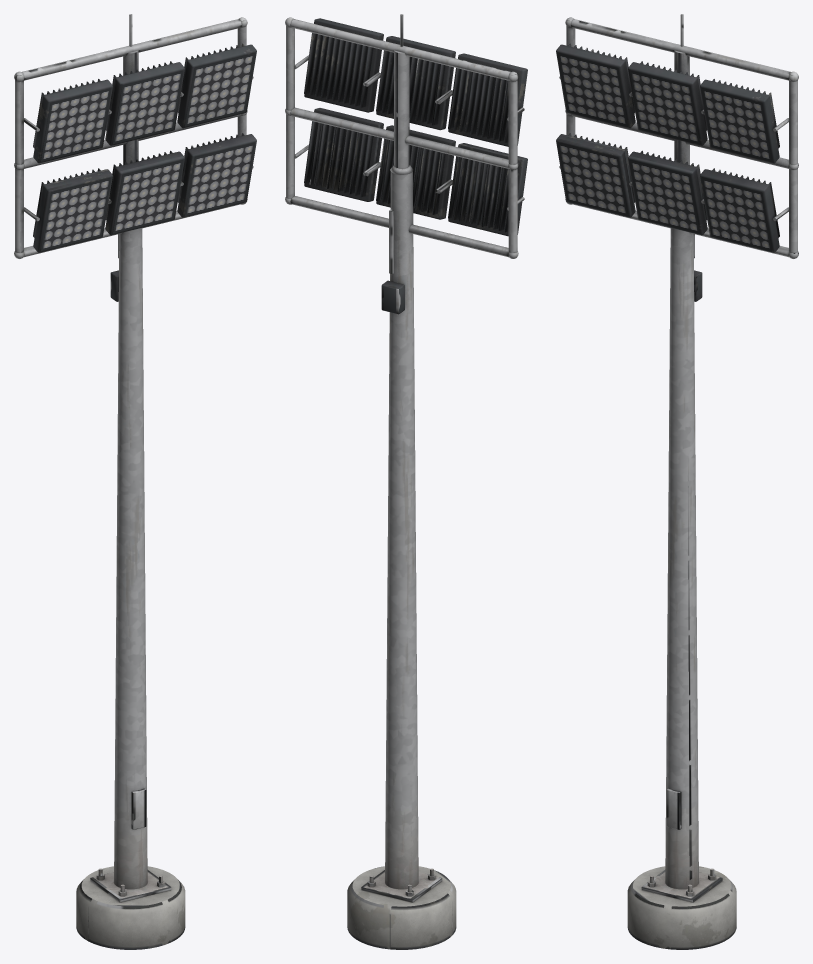
File: iluminador.obj
3 views of the same model, side by side, from view 1: azimuth 30°, elevation 25°; view 2: azimuth 150°, elevation 25°; view 3: azimuth 330°, elevation 25° (orthographic).
Visible parts, largest first — view 1: poste, base_concreto, led_0_2, led_0_0, led_1_1, led_1_0, led_1_2, led_0_1, bastidor_1, bastidor_2, reflector_1_0, reflector_1_2 (+8 smaller); view 2: poste, base_concreto, aletas_0_2, aletas_1_2, aletas_0_0, aletas_1_0, aletas_1_1, aletas_0_1, bastidor_1, reflector_1_2, reflector_0_2, bastidor_4 (+10 smaller); view 3: poste, base_concreto, led_0_0, led_0_2, led_1_1, led_1_2, led_1_0, led_0_1, bastidor_1, bastidor_3, reflector_1_0, reflector_1_2 (+8 smaller).
Boxes of the visible parts, x1=… form: poste: x1=114, y1=228, x2=147, y2=889; base_concreto: x1=76, y1=866, x2=185, y2=949; led_0_2: x1=185, y1=143, x2=255, y2=215; led_0_0: x1=41, y1=178, x2=111, y2=251; led_1_1: x1=113, y1=71, x2=183, y2=144; led_1_0: x1=41, y1=88, x2=111, y2=161; led_1_2: x1=185, y1=53, x2=255, y2=126; led_0_1: x1=113, y1=160, x2=183, y2=233; bastidor_1: x1=21, y1=19, x2=241, y2=80; bastidor_2: x1=15, y1=80, x2=23, y2=252; reflector_1_0: x1=33, y1=79, x2=112, y2=163; reflector_1_2: x1=177, y1=44, x2=256, y2=128; poste: x1=385, y1=171, x2=418, y2=889; base_concreto: x1=347, y1=866, x2=456, y2=949; aletas_0_2: x1=304, y1=121, x2=373, y2=197; aletas_1_2: x1=304, y1=33, x2=373, y2=107; aletas_0_0: x1=448, y1=156, x2=508, y2=232; aletas_1_0: x1=448, y1=68, x2=508, y2=142; aletas_1_1: x1=376, y1=50, x2=445, y2=125; aletas_0_1: x1=376, y1=138, x2=445, y2=214; bastidor_1: x1=290, y1=19, x2=510, y2=80; reflector_1_2: x1=304, y1=18, x2=383, y2=112; reflector_0_2: x1=304, y1=108, x2=383, y2=201; bastidor_4: x1=290, y1=107, x2=508, y2=168; poste: x1=665, y1=228, x2=698, y2=889; base_concreto: x1=627, y1=866, x2=736, y2=949; led_0_0: x1=557, y1=143, x2=627, y2=215; led_0_2: x1=701, y1=178, x2=771, y2=251; led_1_1: x1=629, y1=71, x2=699, y2=144; led_1_2: x1=701, y1=88, x2=771, y2=161; led_1_0: x1=557, y1=53, x2=627, y2=126; led_0_1: x1=629, y1=160, x2=699, y2=233; bastidor_1: x1=571, y1=19, x2=791, y2=80; bastidor_3: x1=789, y1=80, x2=797, y2=252; reflector_1_0: x1=556, y1=44, x2=635, y2=128; reflector_1_2: x1=700, y1=79, x2=779, y2=163.
Bounding box in the file's own units: 2.06 × 7.75 × 0.84.
Materials: 1 (1 with a texture image).
